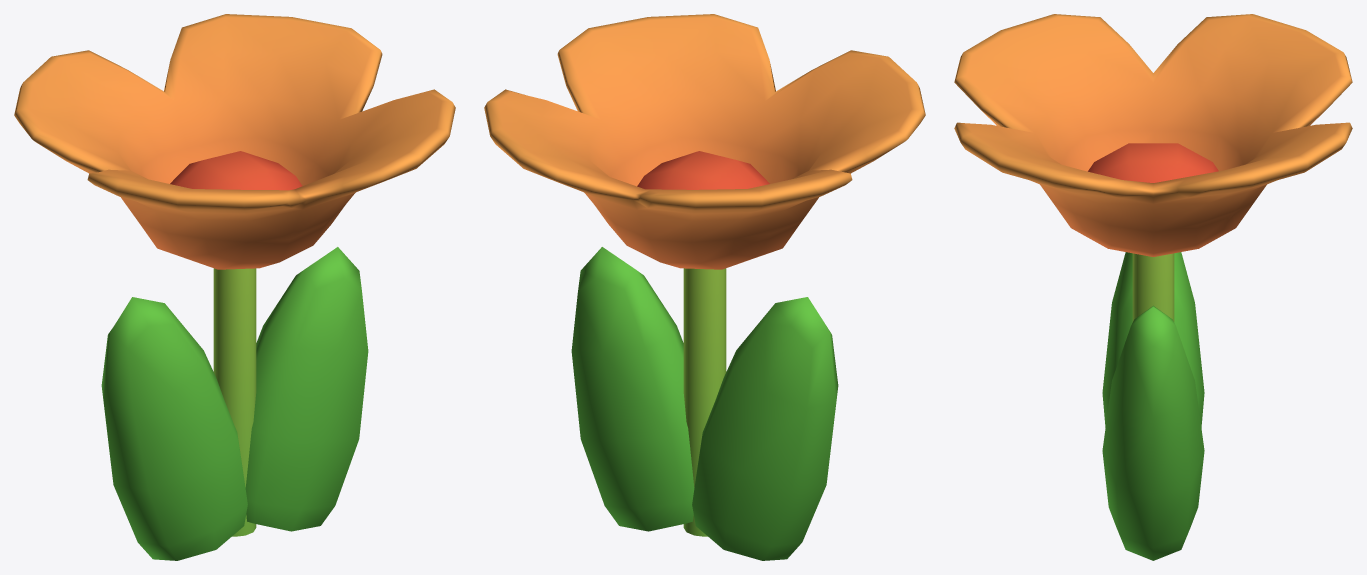
File: plant11.fbx
3 views of the same model, side by side, from view 1: azimuth 30°, elevation 25°; view 2: azimuth 150°, elevation 25°; view 3: azimuth 270°, elevation 25° (orthographic).
Parts seen in each view (by area): view 1: plant11; view 2: plant11; view 3: plant11.
Part boxes in pixels (x1,y1,x2,y2): plant11: (14, 14, 455, 560); plant11: (484, 14, 925, 560); plant11: (954, 14, 1352, 560).
Size of the model in its own units: 1.78 by 2.11 by 1.78.
